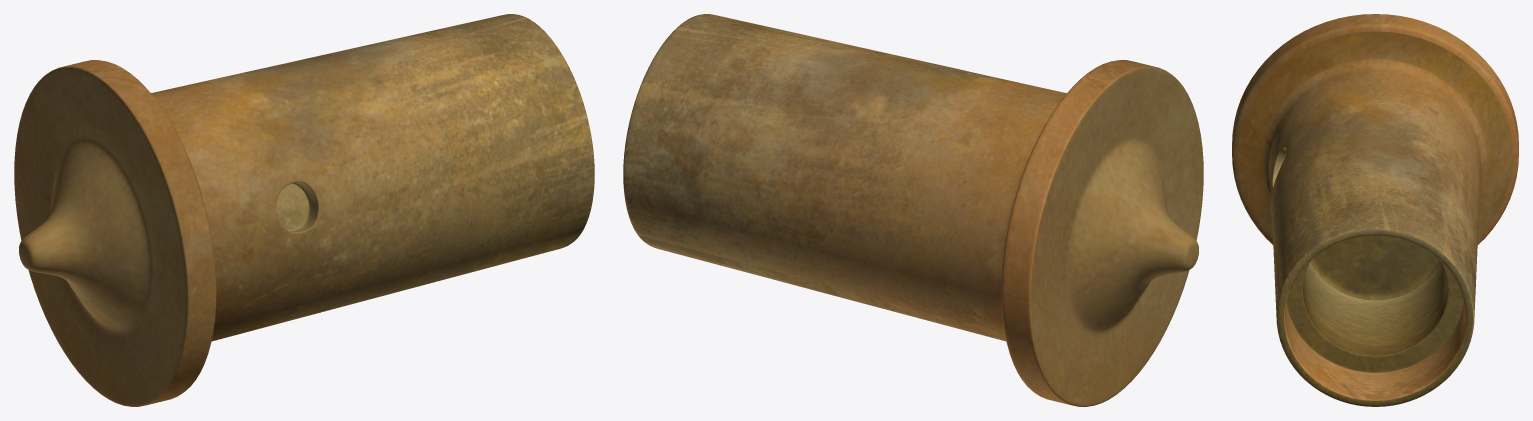
Rendered from tap.obj.
3 views of the same model, side by side, from view 1: azimuth 30°, elevation 25°; view 2: azimuth 150°, elevation 25°; view 3: azimuth 270°, elevation 25° (orthographic). The views are drawn at different scales.
Visible parts, largest first — view 1: tap; view 2: tap; view 3: tap.
Boxes of the visible parts, x1,y1,x2,y2 form: tap: [14, 14, 594, 406]; tap: [623, 14, 1203, 406]; tap: [1232, 14, 1518, 406].
Bounding box in the file's own units: 70.28 × 41.5 × 41.5.
Materials: 1 (1 with a texture image).
